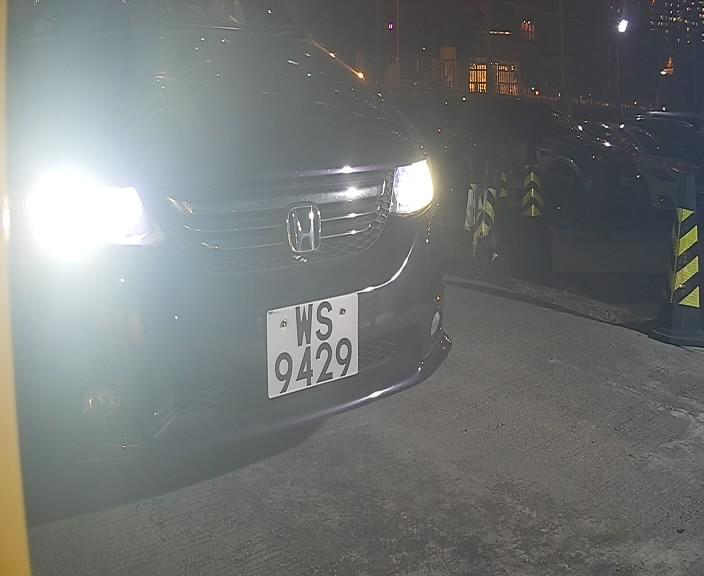privatecar: (1, 3, 481, 502)
